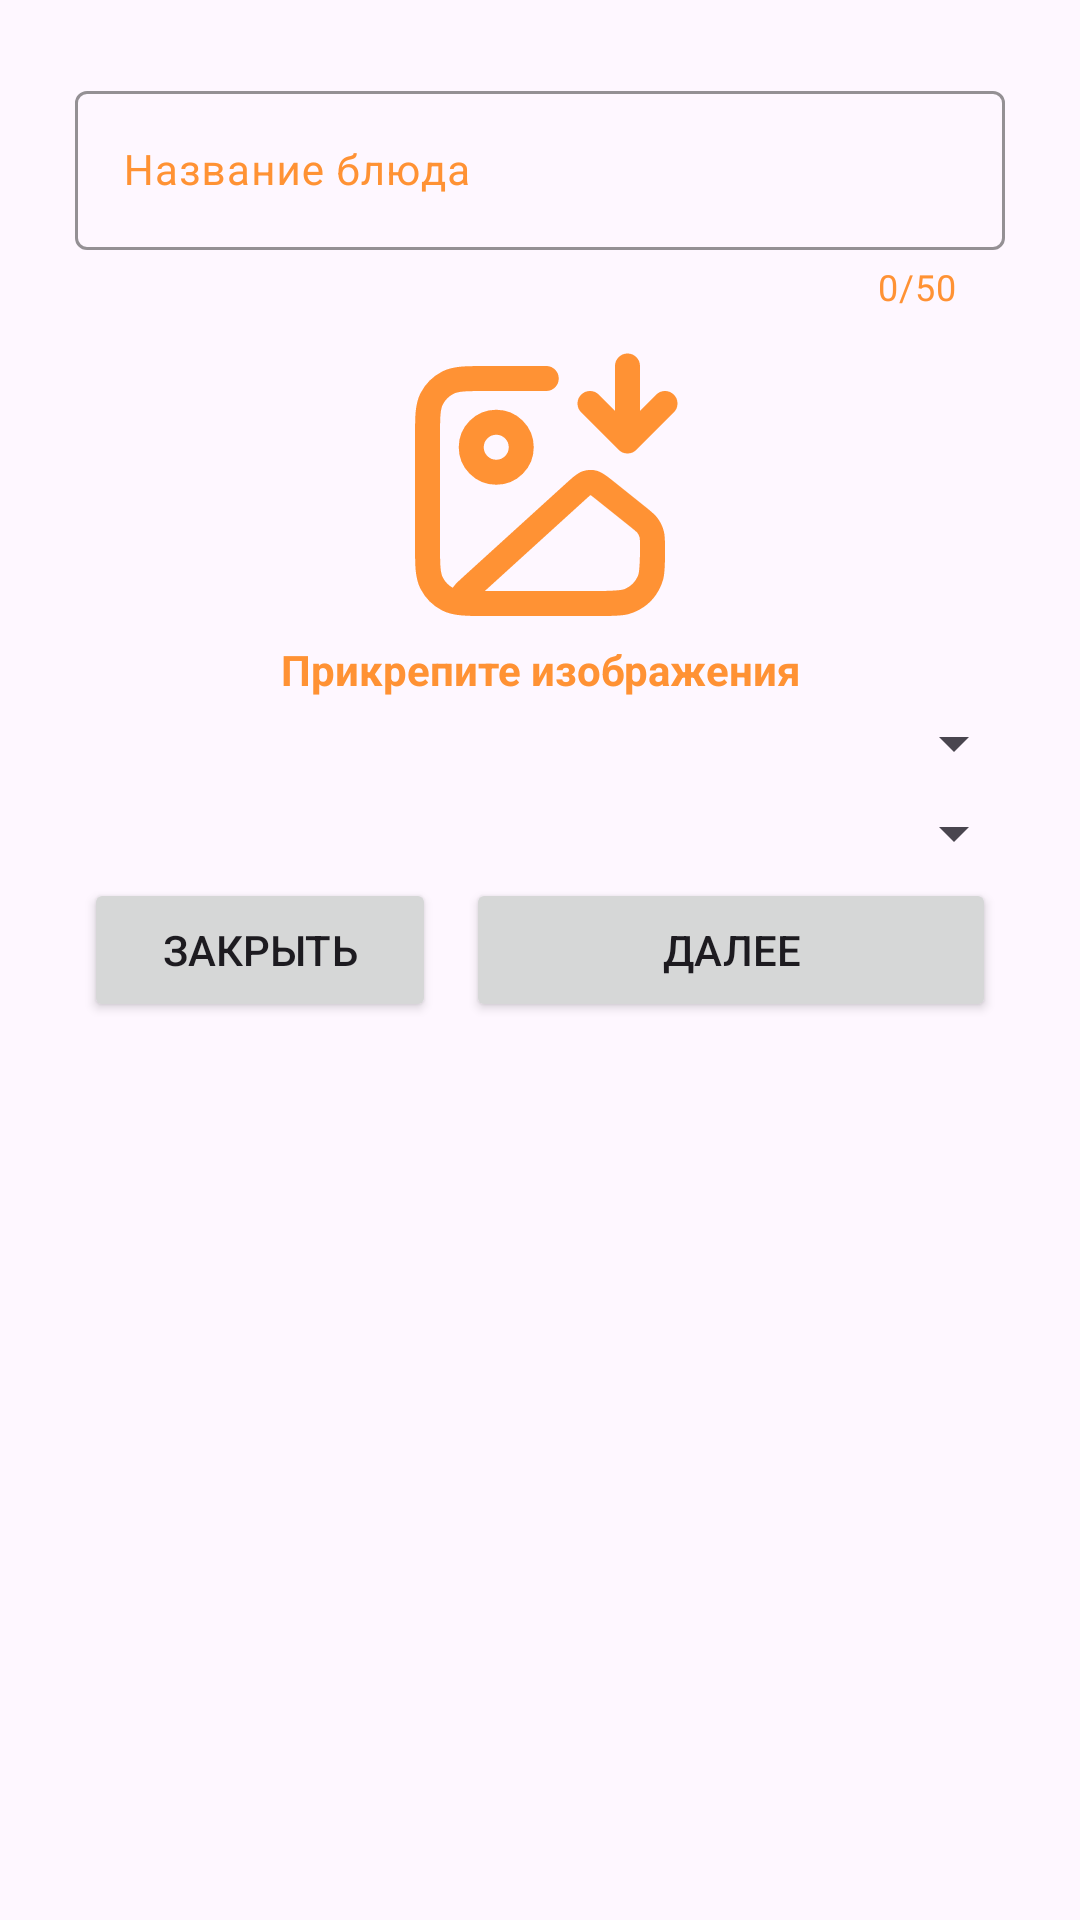

Point at icon controls on the screen. Image size 1080 × 1920, points as point (x, y).
download: point (546, 484)
